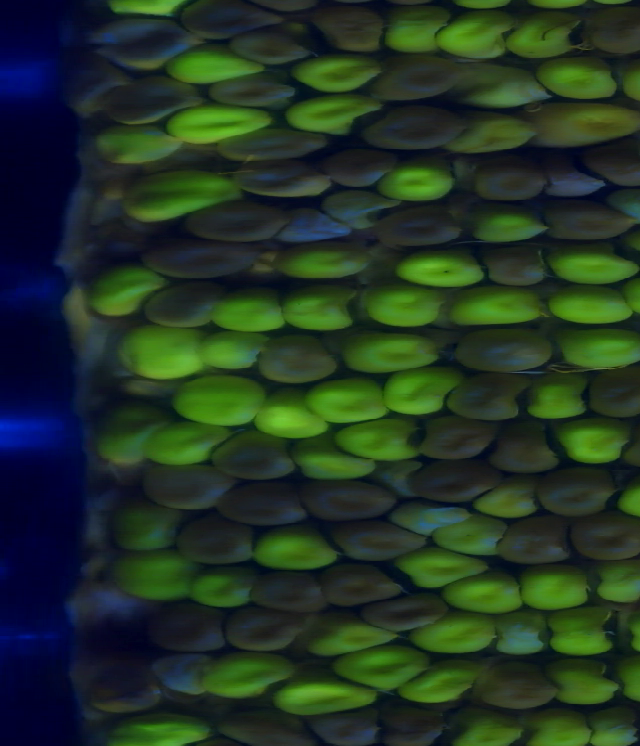fluorescent: (167, 372, 260, 426), (538, 107, 640, 156), (119, 326, 209, 381), (337, 331, 447, 372), (166, 100, 270, 142), (555, 323, 640, 373), (334, 645, 429, 687), (203, 655, 297, 697), (395, 252, 495, 291), (250, 391, 329, 440), (296, 611, 389, 652), (544, 281, 631, 324), (553, 242, 638, 285), (206, 289, 292, 331), (445, 291, 545, 327), (112, 556, 190, 602), (468, 56, 541, 105), (161, 50, 266, 84), (461, 113, 544, 156), (409, 616, 500, 655), (270, 247, 371, 281), (95, 130, 190, 166), (376, 369, 471, 405), (251, 533, 338, 572), (448, 569, 519, 616), (441, 13, 513, 59), (90, 400, 145, 460), (289, 91, 371, 131), (367, 284, 445, 326), (299, 55, 389, 91), (534, 58, 615, 98), (108, 497, 174, 546), (129, 172, 226, 205), (351, 414, 432, 453), (276, 687, 371, 720), (282, 292, 361, 331), (548, 418, 616, 463), (80, 269, 158, 308), (206, 321, 261, 375), (548, 608, 610, 655), (313, 382, 379, 426), (519, 569, 593, 608), (115, 714, 205, 746), (521, 378, 586, 420), (553, 663, 615, 707), (473, 211, 567, 240), (513, 13, 567, 62), (412, 555, 484, 591), (151, 427, 216, 465), (477, 479, 537, 520), (393, 504, 466, 536), (384, 163, 445, 201), (406, 672, 468, 708), (300, 446, 368, 476), (522, 713, 583, 746), (196, 573, 245, 614), (390, 14, 438, 55), (453, 713, 512, 746), (441, 523, 499, 556), (580, 711, 634, 746), (595, 560, 640, 602), (112, 1, 187, 26), (610, 649, 640, 705)
nonfluorescent: (145, 240, 270, 282), (454, 330, 554, 378), (61, 46, 128, 114), (322, 518, 421, 562), (483, 658, 561, 711), (100, 23, 184, 72), (210, 126, 324, 162), (215, 437, 296, 487), (135, 459, 228, 502), (177, 1, 287, 37), (367, 52, 458, 95), (508, 518, 580, 572), (183, 202, 280, 242), (153, 600, 235, 647), (218, 165, 325, 201), (254, 334, 335, 381), (245, 571, 335, 613), (226, 607, 302, 656), (177, 518, 247, 571), (109, 76, 197, 118), (200, 75, 297, 113), (580, 510, 640, 571), (93, 653, 150, 716), (360, 598, 451, 637), (376, 108, 460, 150), (413, 410, 486, 458), (379, 207, 461, 249), (215, 707, 313, 742), (213, 489, 305, 526), (476, 247, 553, 291), (541, 208, 640, 242), (447, 382, 532, 421), (496, 423, 558, 476), (315, 473, 397, 513), (306, 707, 390, 746), (138, 279, 215, 321), (551, 471, 618, 518), (312, 20, 390, 56), (380, 700, 441, 746), (239, 23, 309, 63), (415, 463, 497, 497), (589, 5, 640, 58), (476, 163, 542, 201), (332, 563, 403, 598), (326, 143, 384, 185), (587, 368, 640, 404), (587, 153, 640, 188)
